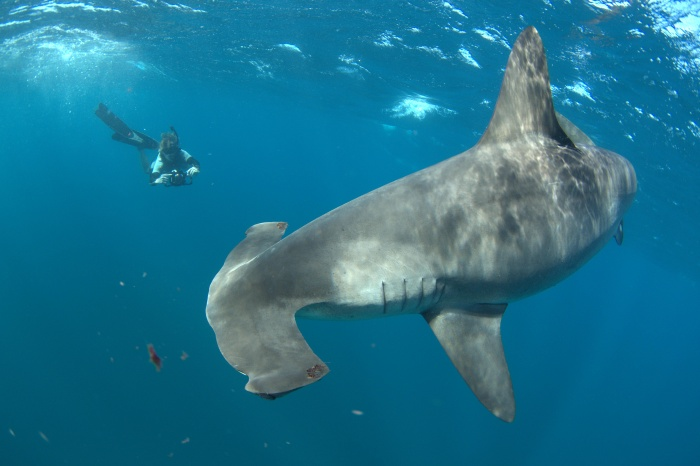Hammer: (176, 13, 671, 452)
